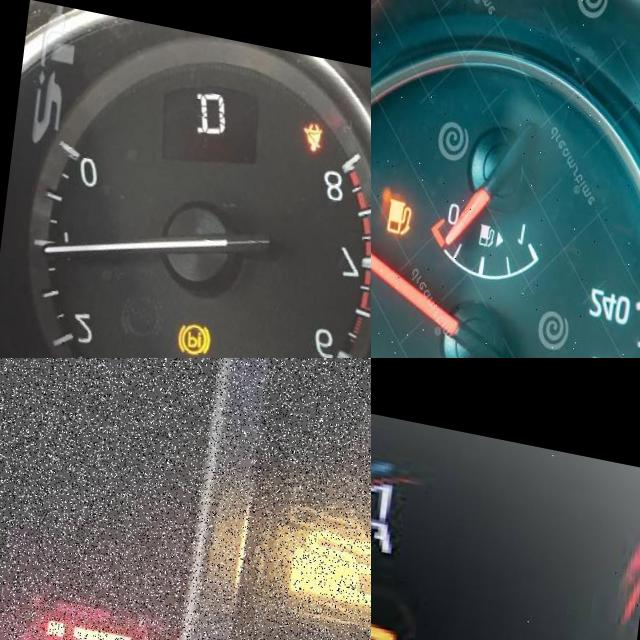Electronic Power Steering: (11, 567, 167, 640)
Seat Belt: (301, 102, 330, 139)
